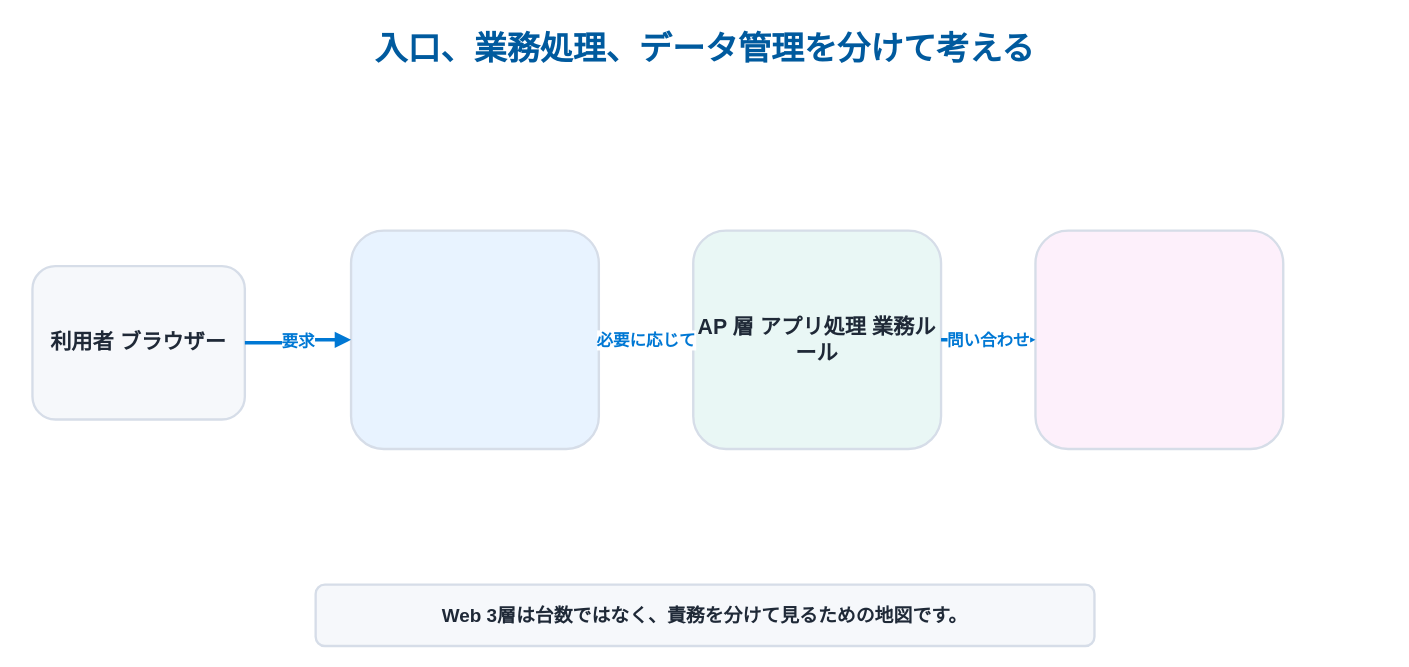
Some shapes in this 1409 by 667 pixel diagram are drawn without their labels. The shapes that lost their labels are listed below. From the top down, each one's centre as x and y in pixels, then its label:
At pixel 474 339: "Web 層 入口と配信 HTTP/HTTPS".
At pixel 1159 339: "DB 層 保存と検索 整合性".
